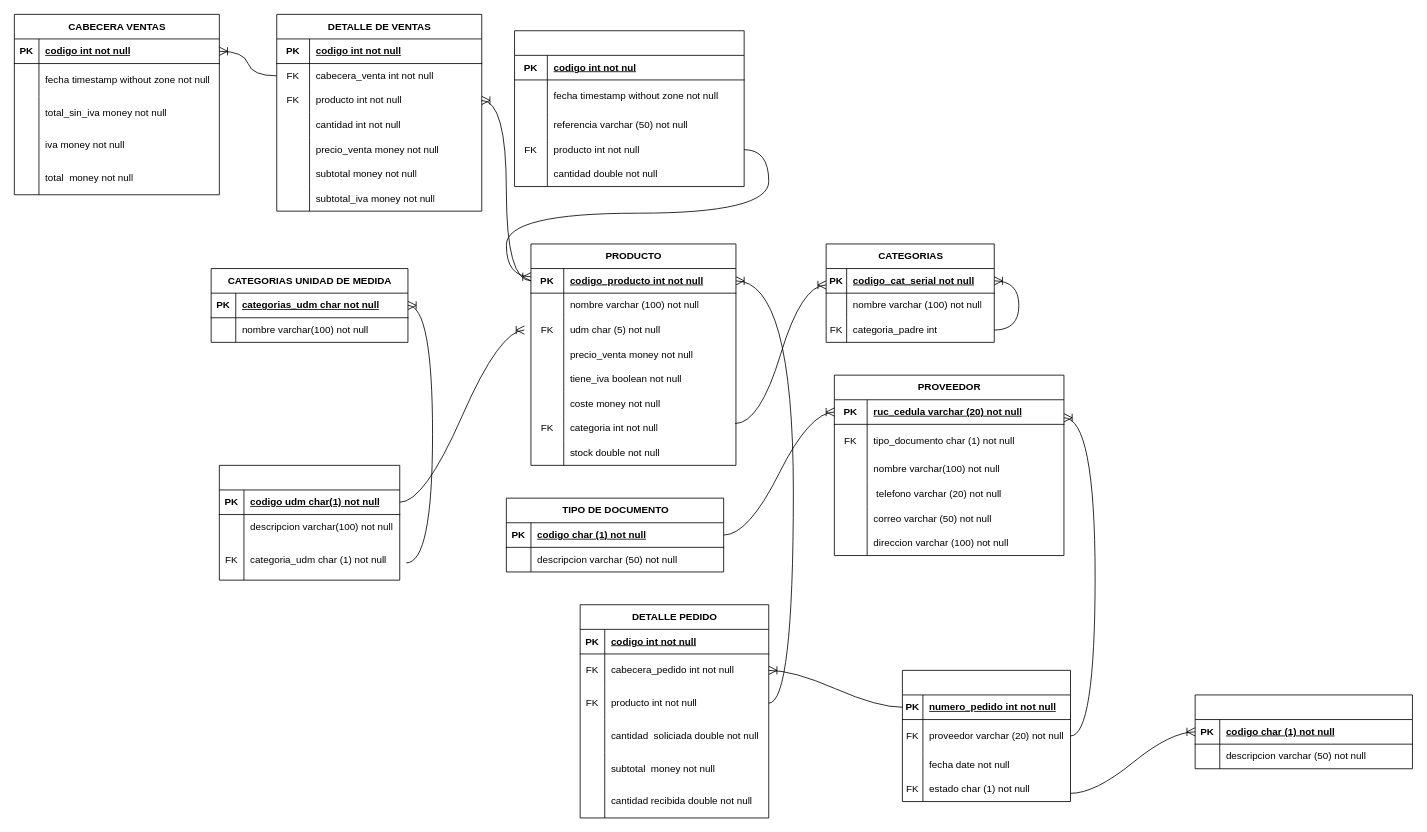
This 1427x832 diagram has some shape labels left out. Here are the shapes that lost their labels. From the top down, the box of each, then its label:
(514, 30, 744, 187): HISTORIAL_STOCK
(219, 465, 400, 580): UNIDADES MEDIDA
(902, 670, 1071, 802): CABECERA PEDIDO
(1194, 694, 1412, 769): ESTADO PEDIDO
